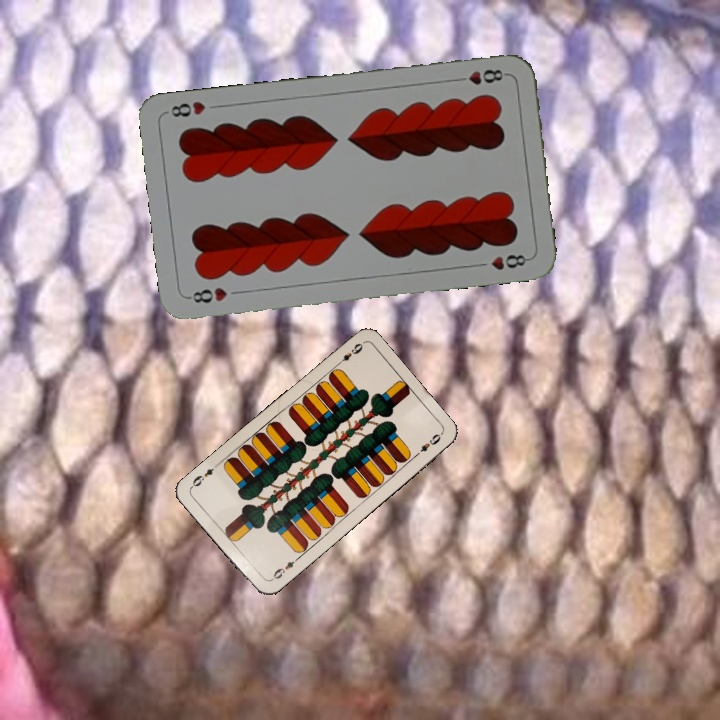E9: (266, 554, 301, 583), (332, 339, 365, 369)
H8: (451, 65, 510, 87), (184, 283, 230, 306)
